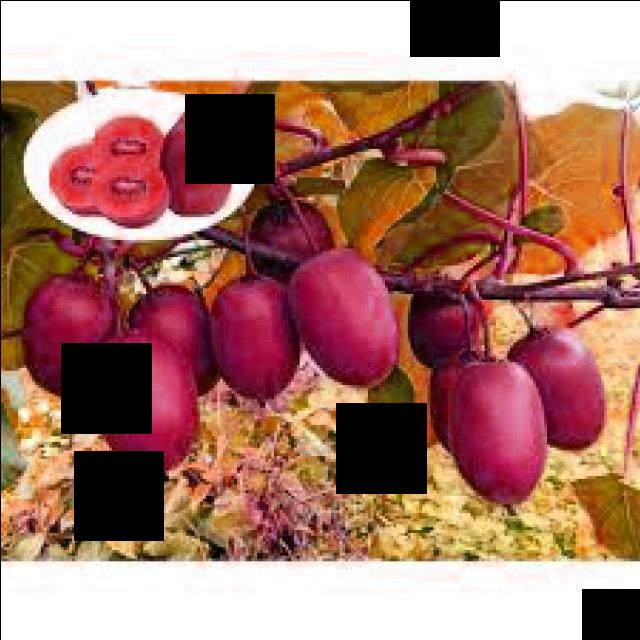kiwi: (294, 246, 402, 388), (450, 354, 550, 505), (95, 328, 200, 470), (510, 326, 610, 451), (24, 272, 121, 397), (214, 274, 300, 399), (135, 283, 223, 397), (251, 197, 334, 294), (431, 351, 502, 454), (414, 283, 485, 371)
